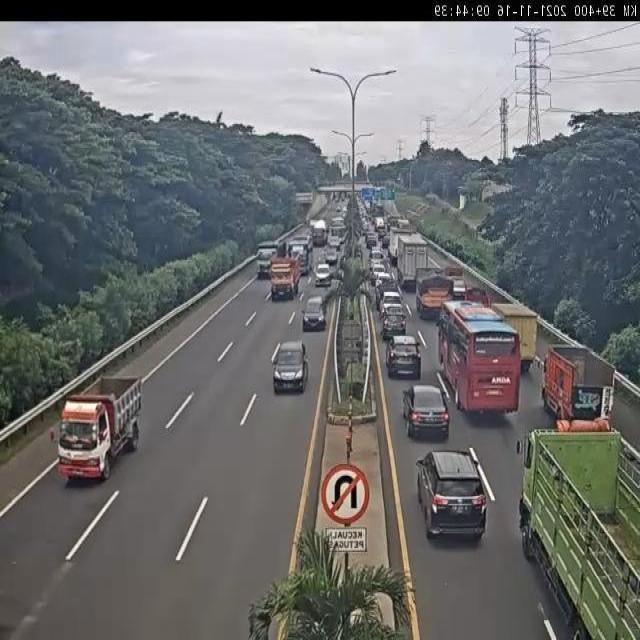Bus: (434, 299, 522, 419), (287, 232, 314, 277)
Car: (414, 450, 486, 541), (401, 384, 449, 440), (272, 339, 308, 394), (385, 334, 421, 380), (381, 304, 408, 338), (302, 296, 326, 332), (378, 290, 404, 316), (314, 263, 332, 286), (369, 261, 386, 284), (374, 272, 394, 290), (324, 247, 338, 266), (328, 235, 341, 251), (366, 233, 378, 249), (381, 233, 390, 248)
Truck: (515, 414, 640, 640), (56, 374, 144, 480), (542, 343, 614, 425), (488, 296, 540, 368), (412, 264, 454, 322), (395, 231, 431, 291), (270, 251, 303, 303), (254, 238, 286, 280), (389, 224, 413, 267), (441, 261, 467, 296), (460, 284, 491, 308), (330, 215, 348, 243), (310, 217, 328, 244)
